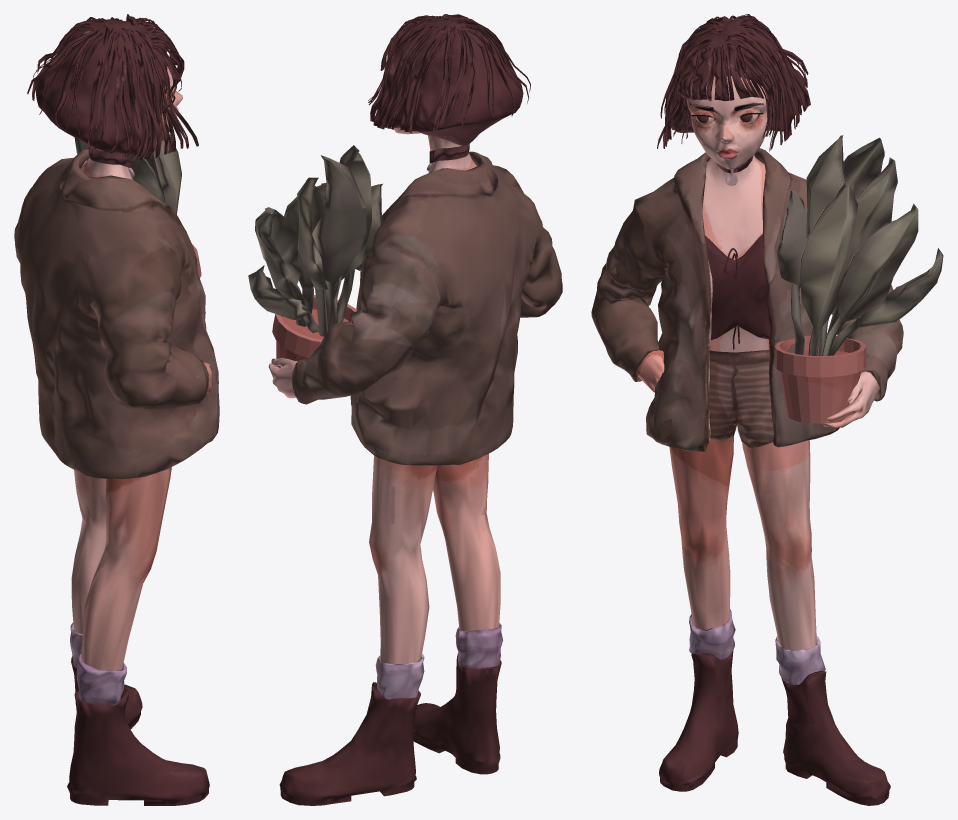
File: matylda.glb
The picture shows the model from 3 angles, left to right: view 1: azimuth 30°, elevation 25°; view 2: azimuth 150°, elevation 25°; view 3: azimuth 270°, elevation 25°; orthographic projection. The views are drawn at different scales.
Size of the model in its own units: 0.4442 by 1.6 by 0.6933.
1 material, 1 textured.
